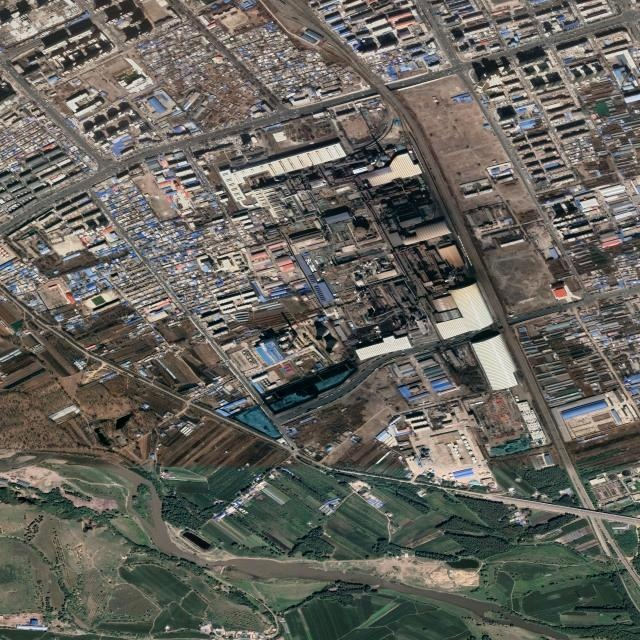coal_fired_power_plant: (220, 135, 495, 360)
